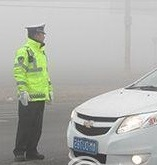person: (10, 21, 53, 163)
